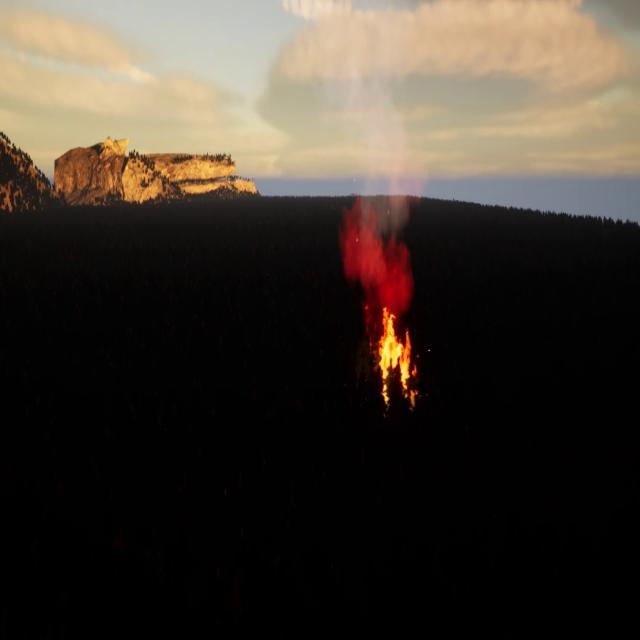fire: (374, 306, 414, 397)
smoke: (344, 167, 414, 320)
